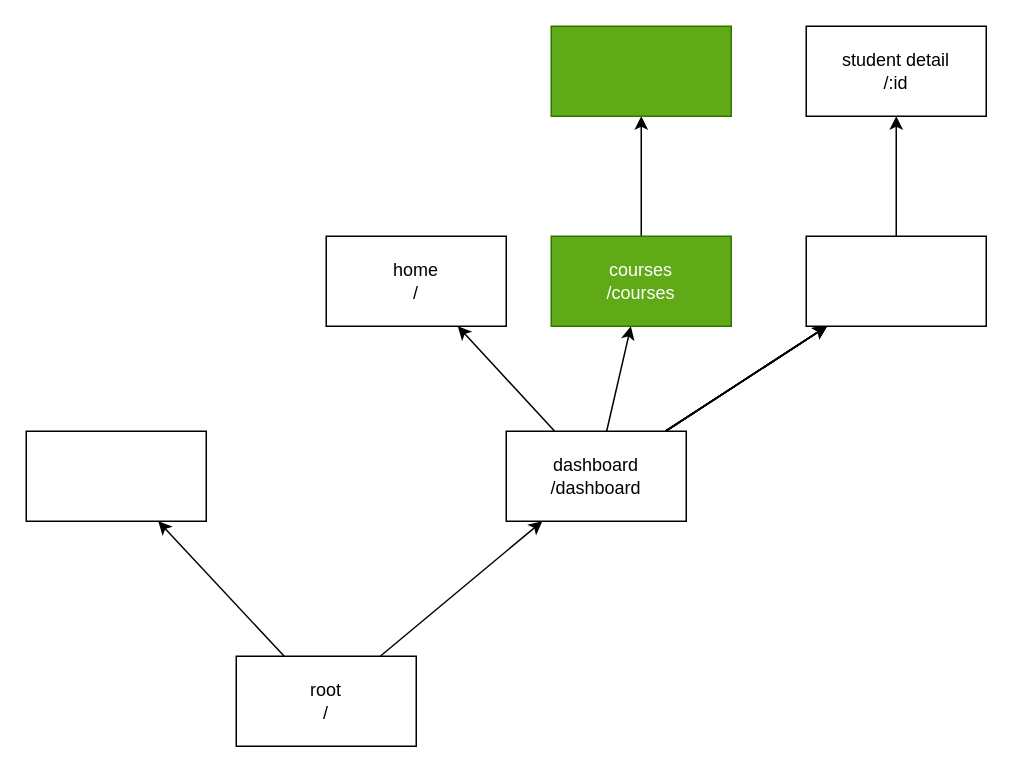
Some shapes in this 1013 by 773 pixel diagram are drawn without their labels. The shapes that lost their labels are listed below. From the top down, each one's box as (x1, y1, x2, y2) in pixels, then its label:
(550, 25, 731, 116): course detail /:id
(805, 235, 986, 326): students /students
(25, 430, 206, 521): auth /auth
